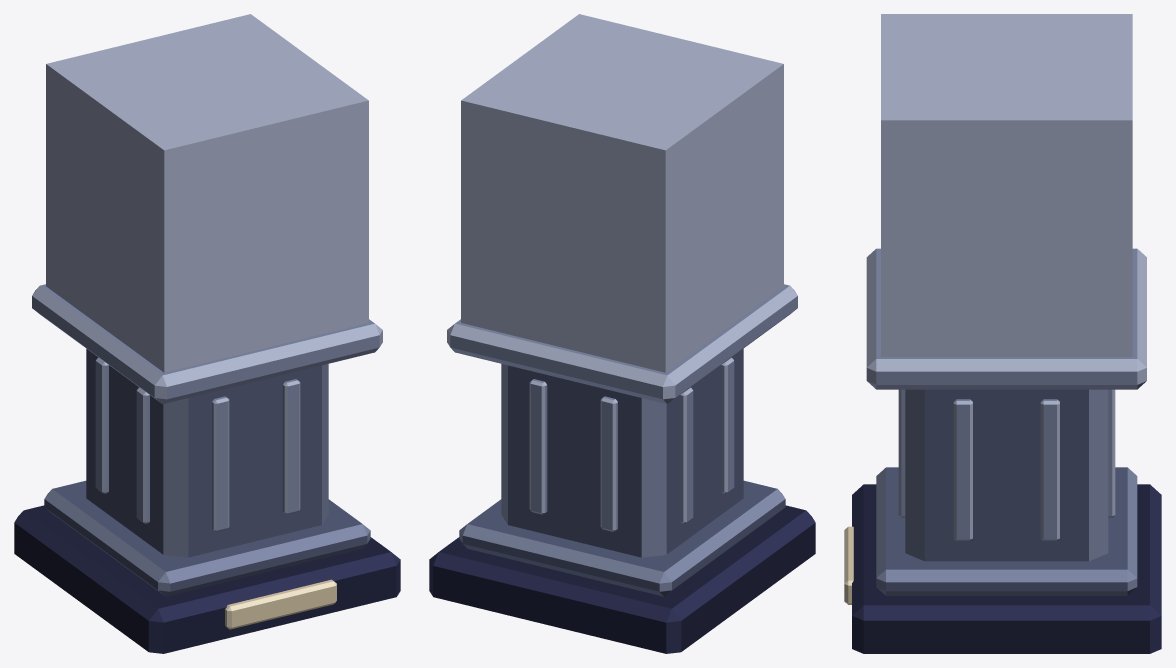
The model's file is Pedestal_Diamond.fbx.
3 renders of one model, left to right at view 1: azimuth 30°, elevation 25°; view 2: azimuth 150°, elevation 25°; view 3: azimuth 270°, elevation 25°, orthographic. The views are drawn at different scales.
Parts seen in each view (by area): view 1: Pedestal_Diamond_Case, Pedestal_Diamond; view 2: Pedestal_Diamond_Case, Pedestal_Diamond; view 3: Pedestal_Diamond, Pedestal_Diamond_Case.
Boxes of the visible parts, x1=… form: Pedestal_Diamond_Case: x1=46, y1=14, x2=368, y2=372; Pedestal_Diamond: x1=14, y1=284, x2=400, y2=653; Pedestal_Diamond_Case: x1=461, y1=14, x2=783, y2=372; Pedestal_Diamond: x1=429, y1=284, x2=815, y2=653; Pedestal_Diamond: x1=844, y1=248, x2=1161, y2=653; Pedestal_Diamond_Case: x1=881, y1=14, x2=1132, y2=356.
Bounding box in the file's own units: 3.2 × 5.95 × 3.28.
Materials: 1 (1 with a texture image).
